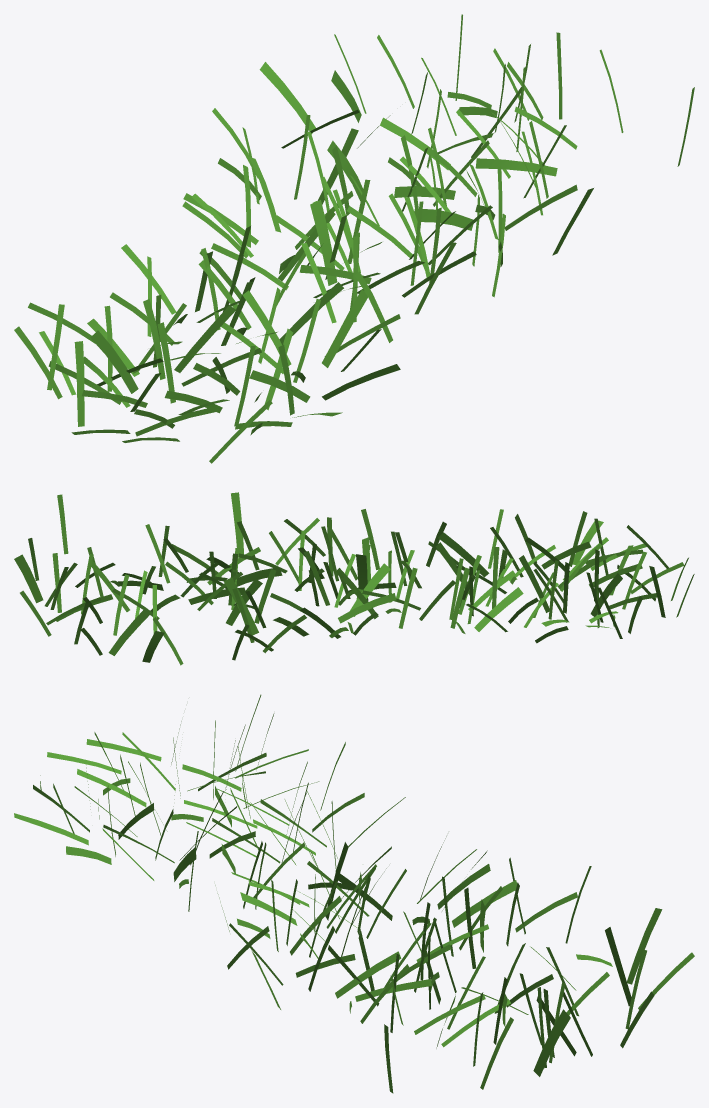
The model's file is Grass.fbx.
The picture shows the model from 3 angles, top to bottom: view 1: azimuth 30°, elevation 25°; view 2: azimuth 150°, elevation 25°; view 3: azimuth 270°, elevation 25°; orthographic projection. The views are drawn at different scales.
Visible parts, largest first — view 1: grass; view 2: grass; view 3: grass.
Part boxes in pixels (x1,y1,x2,y2): grass: [14, 14, 694, 463]; grass: [14, 492, 694, 665]; grass: [14, 694, 694, 1093].
Size of the model in its own units: 0.012 by 0.00127 by 0.0101.
